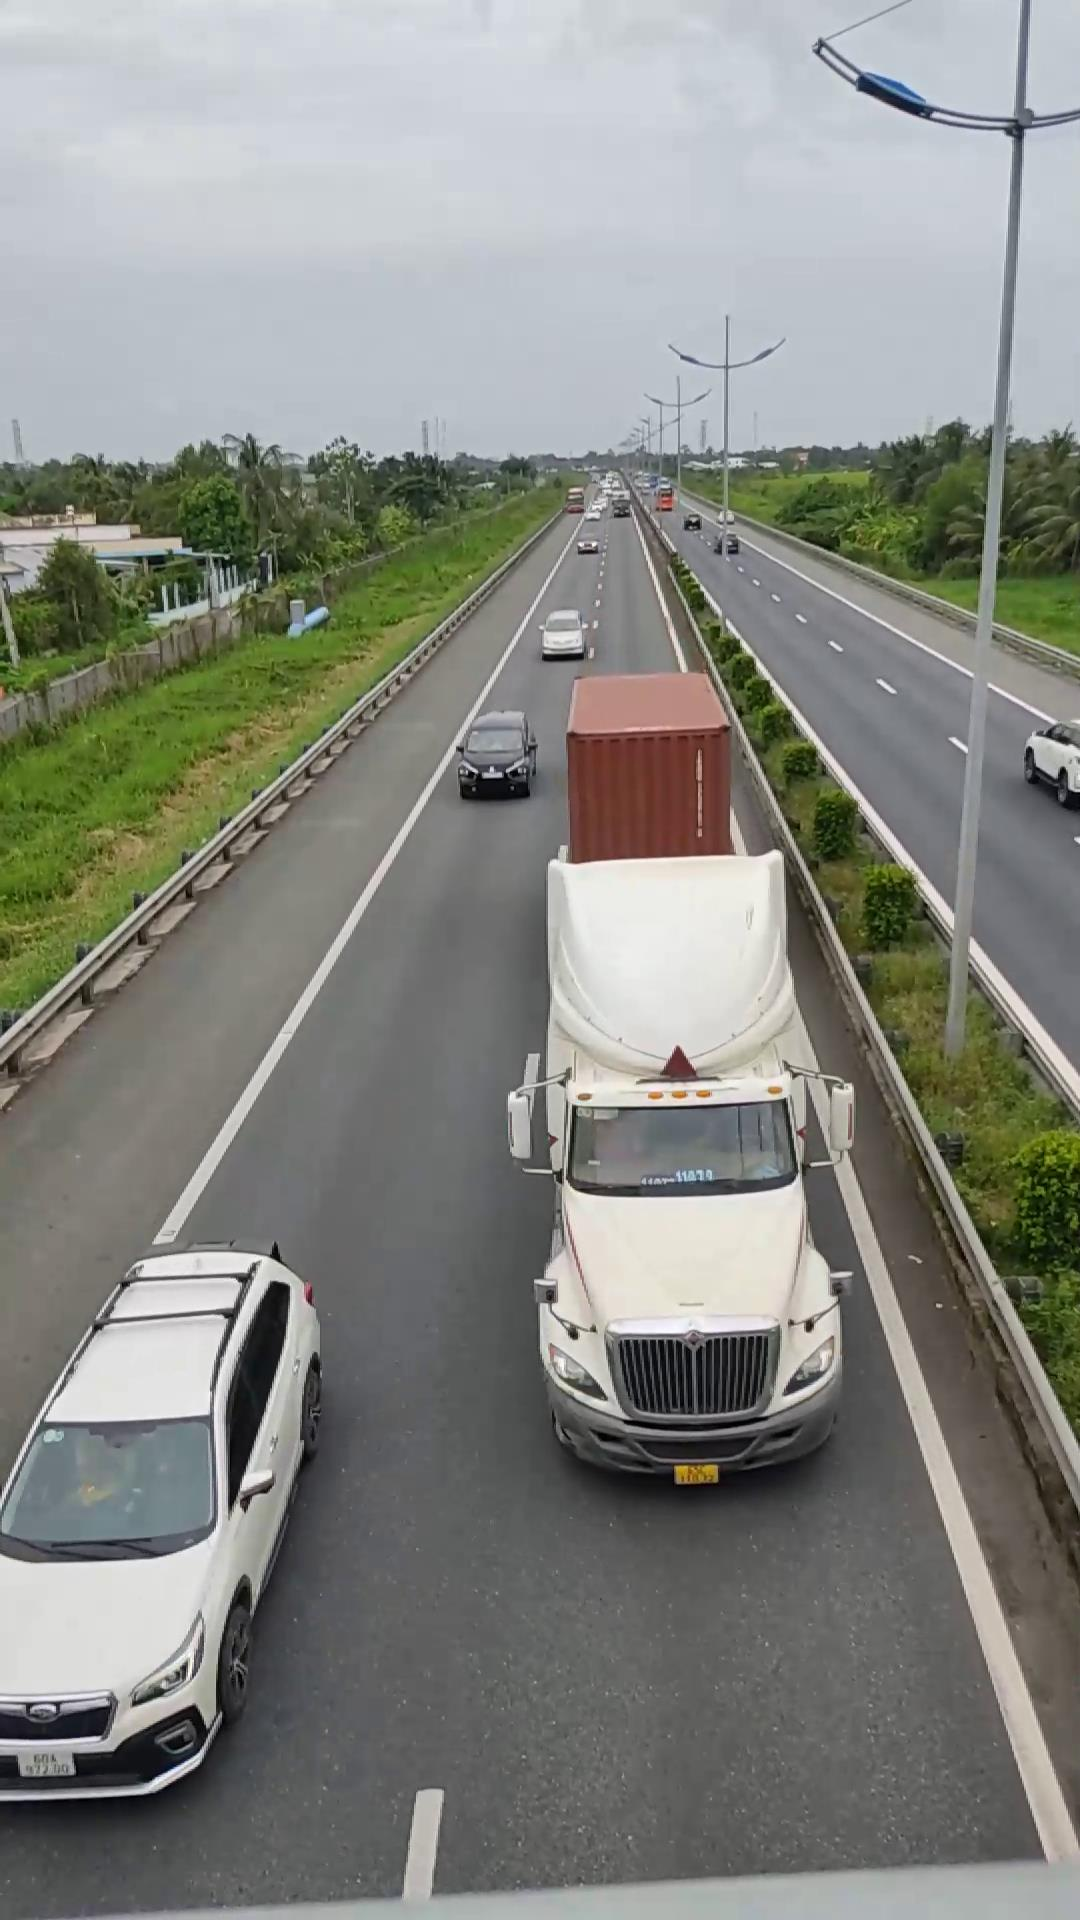car: (0, 1242, 328, 1793), (455, 708, 539, 798)
container: (508, 669, 845, 1484)
